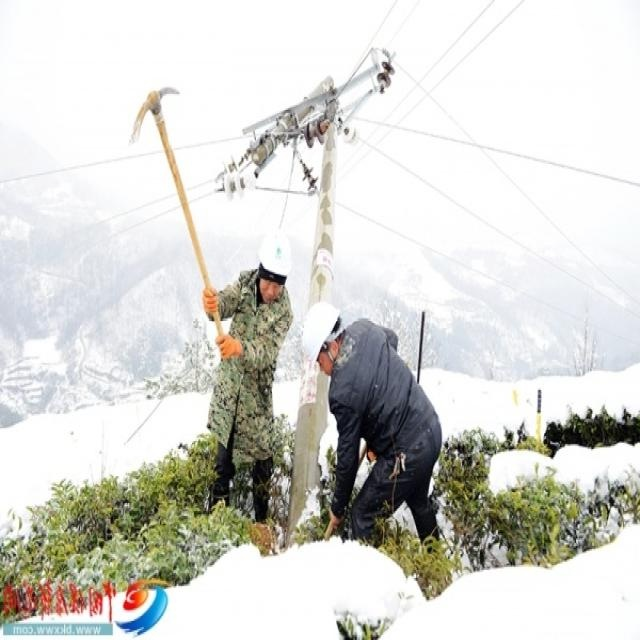Con_Casco: (300, 303, 342, 373)
